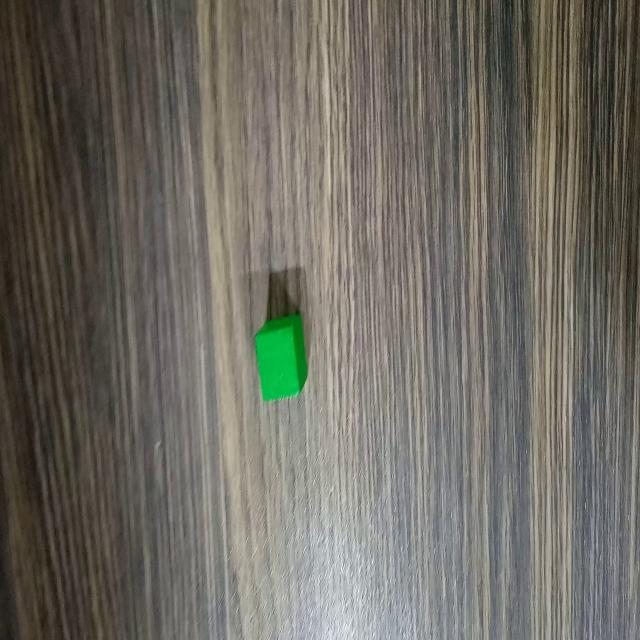cube: (251, 311, 311, 404)
